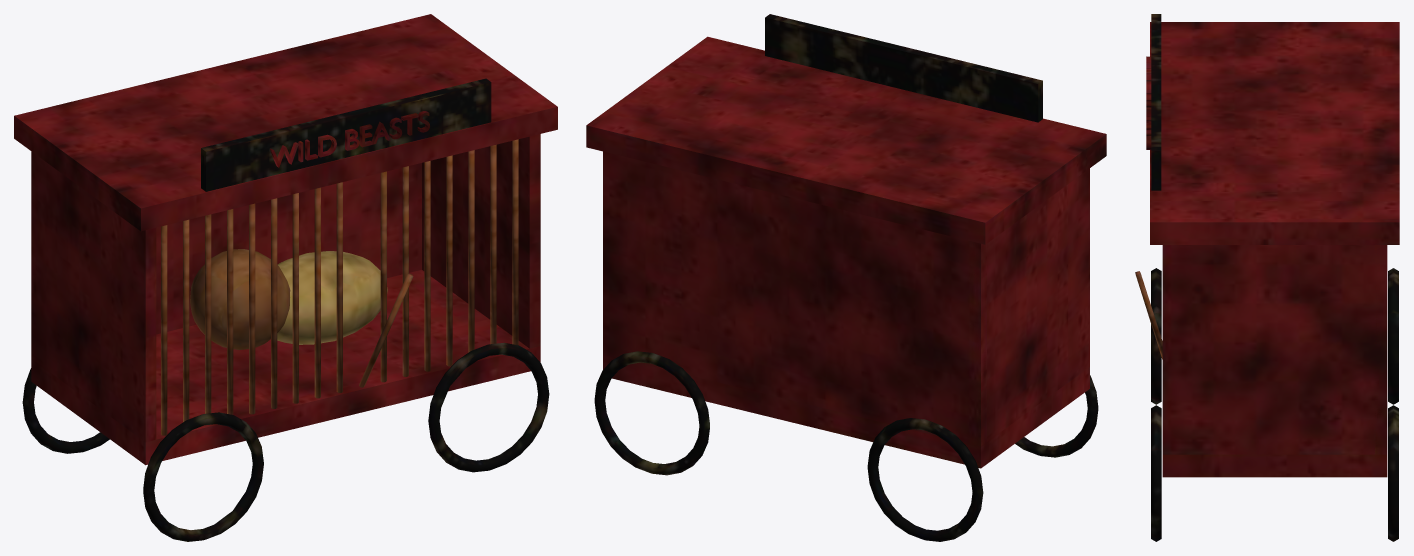
File: circus_wagon.glb
3 views of the same model, side by side, from view 1: azimuth 30°, elevation 25°; view 2: azimuth 150°, elevation 25°; view 3: azimuth 270°, elevation 25° (orthographic). The views are drawn at different scales.
Visible parts, largest first — view 1: Main; view 2: Main; view 3: Main.
Part boxes in pixels (x1,y1,x2,y2): Main: (14,14,557,541); Main: (586,14,1106,541); Main: (1135,14,1399,541).
Bounding box in the file's own units: 3.8 × 3.4 × 2.12.
1 material, 1 textured.
